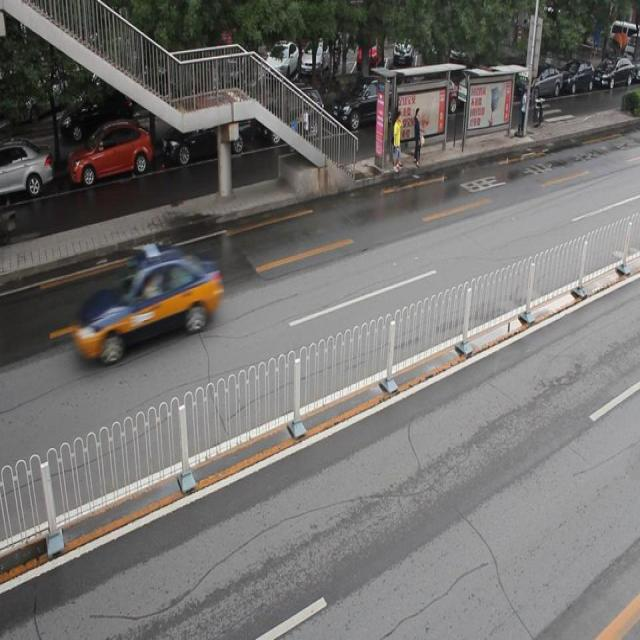car: (69, 245, 222, 363), (68, 123, 154, 188), (162, 105, 249, 166), (331, 76, 402, 134), (258, 87, 324, 149), (1, 142, 53, 201)
